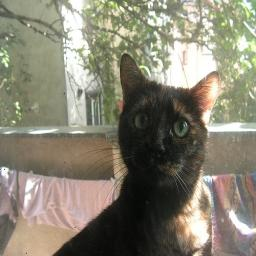catnose: (149, 142, 167, 160)
